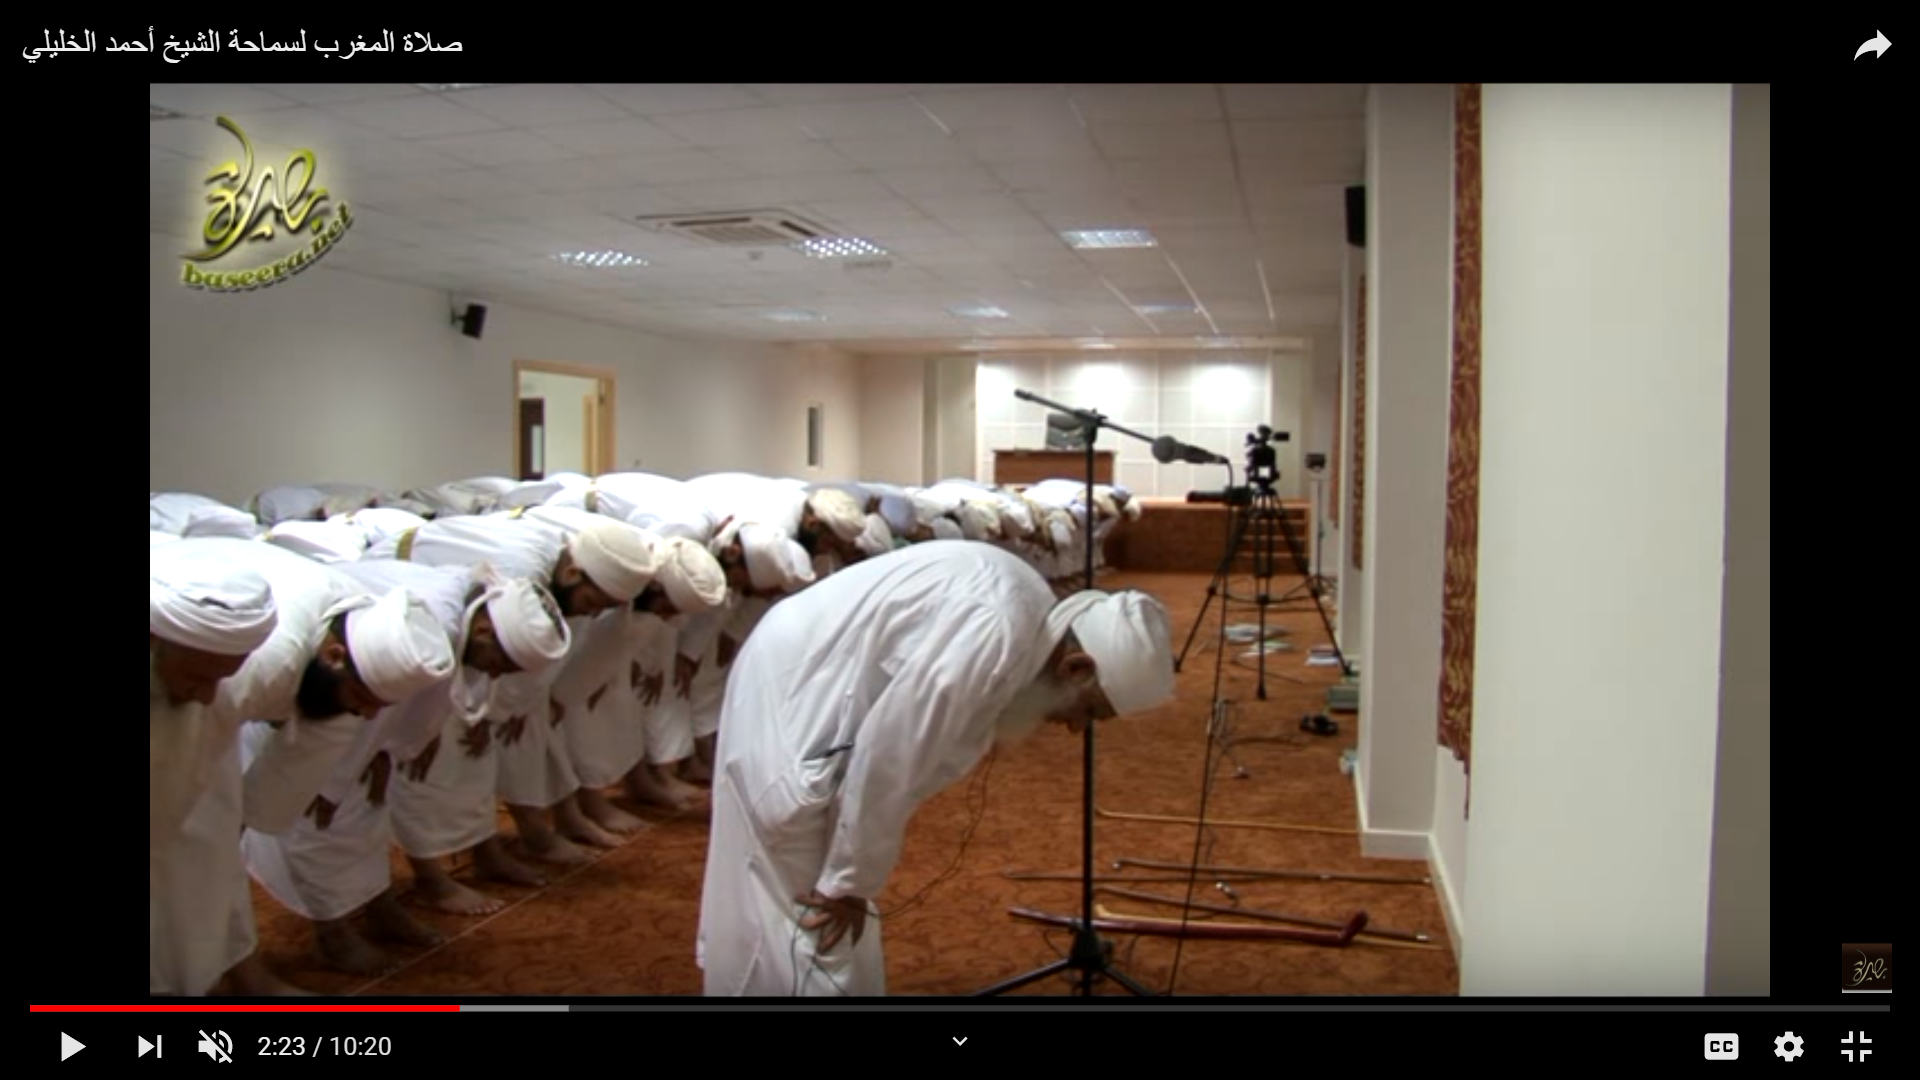ruku: (712, 582, 1216, 978)
